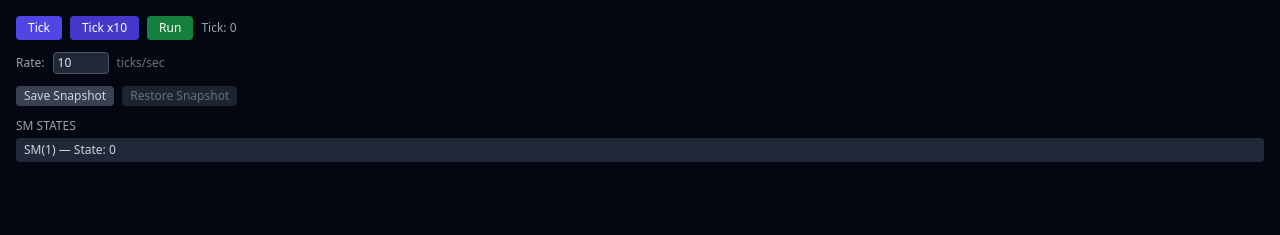
Test: LivePreview › displays transitions when adapter returns them
What coordinates should you click on to do the following:
click the button "Tick"
I would click on:
 (39, 28)
Its box is [16,16,62,40].
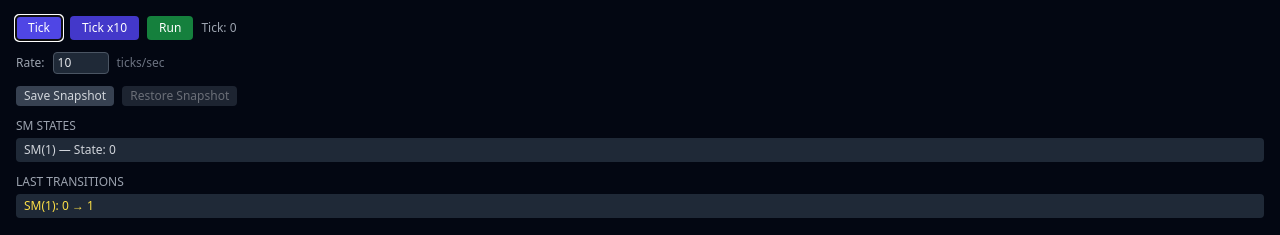
Expected: the list item "SM(1): 0 → 1" is shown, [16,194,1264,218]
